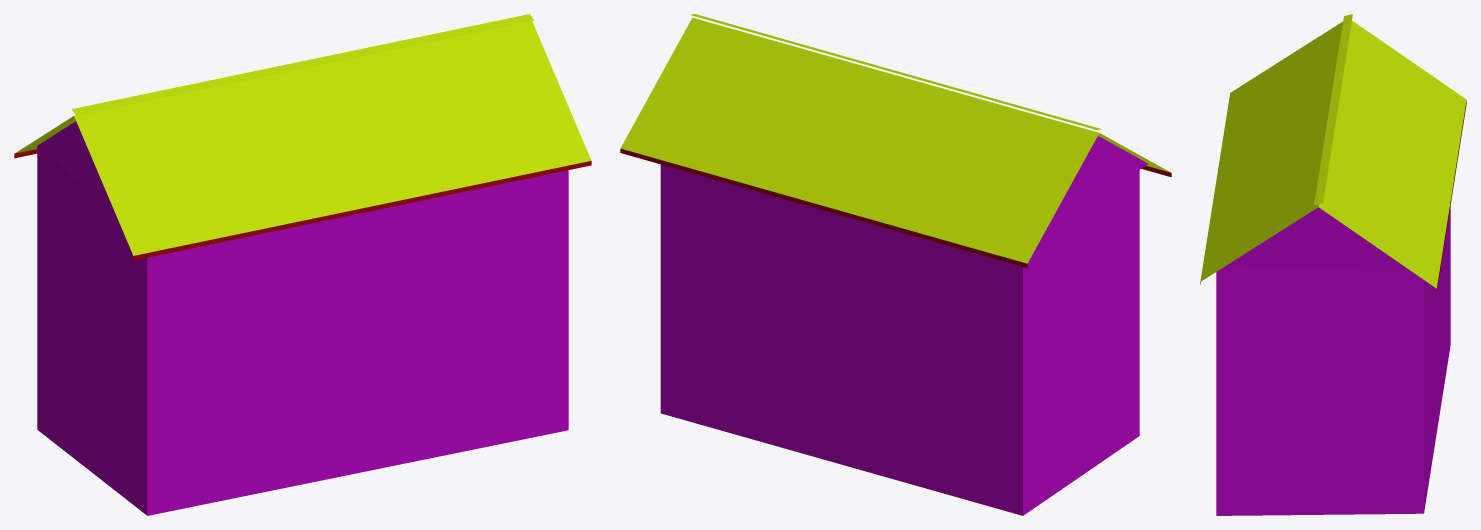
Rendered from bgj_234.glb.
The picture shows the model from 3 angles, left to right: view 1: azimuth 30°, elevation 25°; view 2: azimuth 150°, elevation 25°; view 3: azimuth 270°, elevation 25°; orthographic projection. The views are drawn at different scales.
Visible parts, largest first — view 1: bgj_234; view 2: bgj_234; view 3: bgj_234.
Part boxes in pixels (<box>): bgj_234: <box>14,14,591,515</box>; bgj_234: <box>620,14,1171,515</box>; bgj_234: <box>1200,14,1466,515</box>.
Size of the model in its own units: 12.3 by 9.43 by 7.07.
